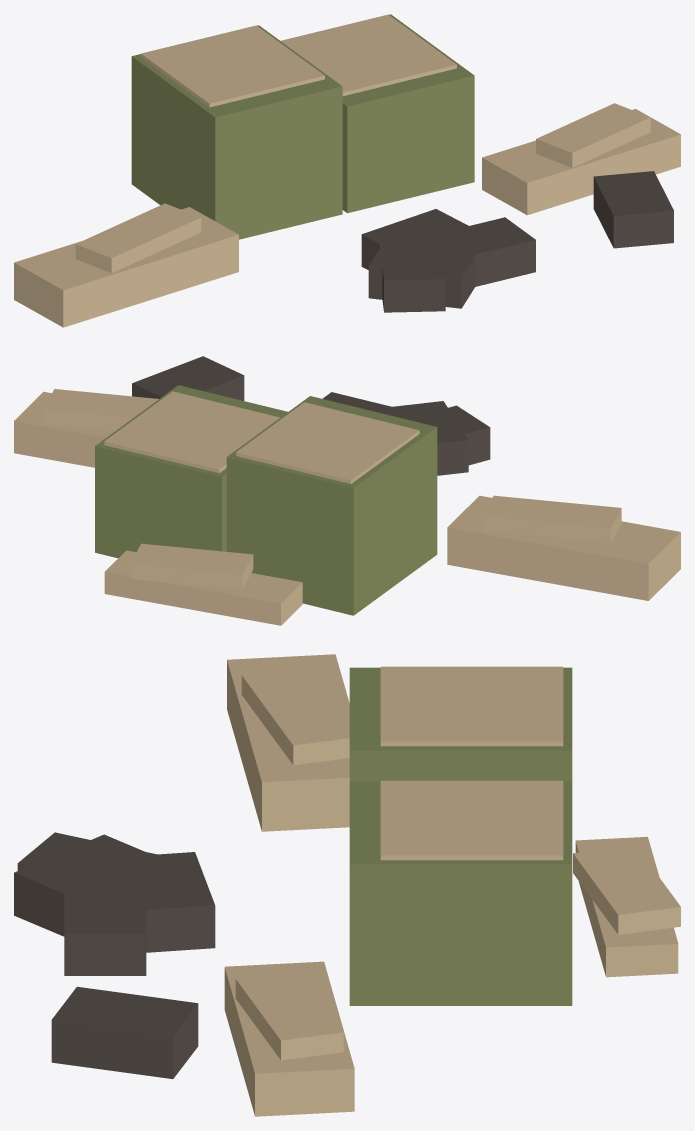
Rendered from SM_HescoCorto2_v2_Escalonado_e2_MuyDanado_LOD1.fbx.
The picture shows the model from 3 angles, top to bottom: view 1: azimuth 30°, elevation 25°; view 2: azimuth 150°, elevation 25°; view 3: azimuth 270°, elevation 25°; orthographic projection. The views are drawn at different scales.
Parts seen in each view (by area): view 1: SM_hesco_piezas_v70_LOD1; view 2: SM_hesco_piezas_v70_LOD1; view 3: SM_hesco_piezas_v70_LOD1.
Boxes of the visible parts, x1,y1,x2,y2 form: SM_hesco_piezas_v70_LOD1: (14,14,680,327); SM_hesco_piezas_v70_LOD1: (14,356,680,625); SM_hesco_piezas_v70_LOD1: (14,654,680,1116).
Size of the model in its own units: 5.36 by 1.06 by 3.66.
